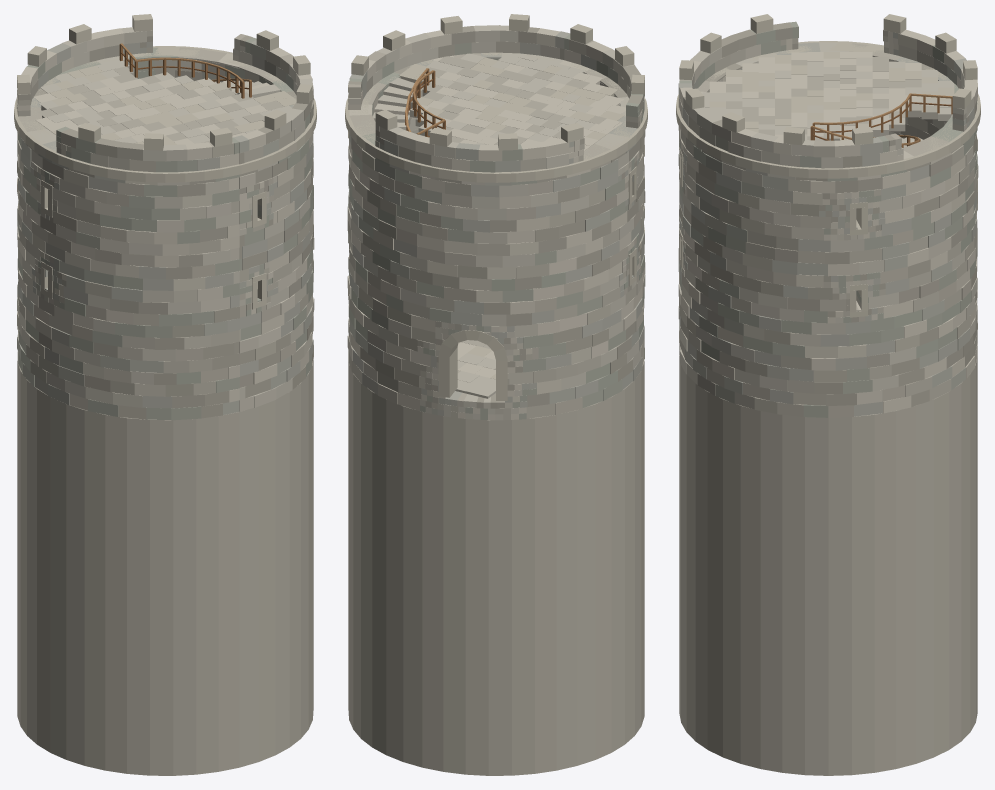
File: Tower_V4_6.glb
3 views of the same model, side by side, from view 1: azimuth 30°, elevation 25°; view 2: azimuth 150°, elevation 25°; view 3: azimuth 270°, elevation 25° (orthographic).
Parts seen in each view (by area): view 1: Tower_V4_6; view 2: Tower_V4_6; view 3: Tower_V4_6.
Part boxes in pixels (left/top/right/bottom): Tower_V4_6: left=14, top=14, right=316, bottom=775; Tower_V4_6: left=345, top=14, right=647, bottom=775; Tower_V4_6: left=676, top=14, right=980, bottom=775.
Bounding box in the file's own units: 16.84 × 39.07 × 16.84.
